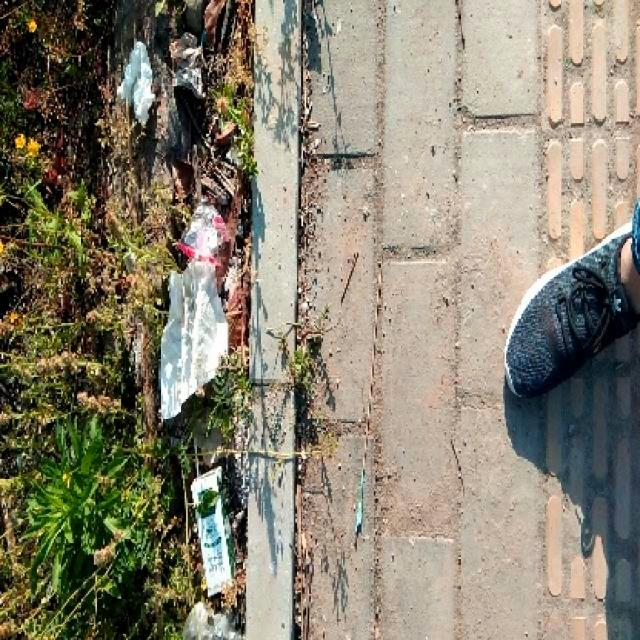Metal: (189, 466, 240, 591)
Trash: (154, 207, 232, 423), (119, 42, 158, 130)
